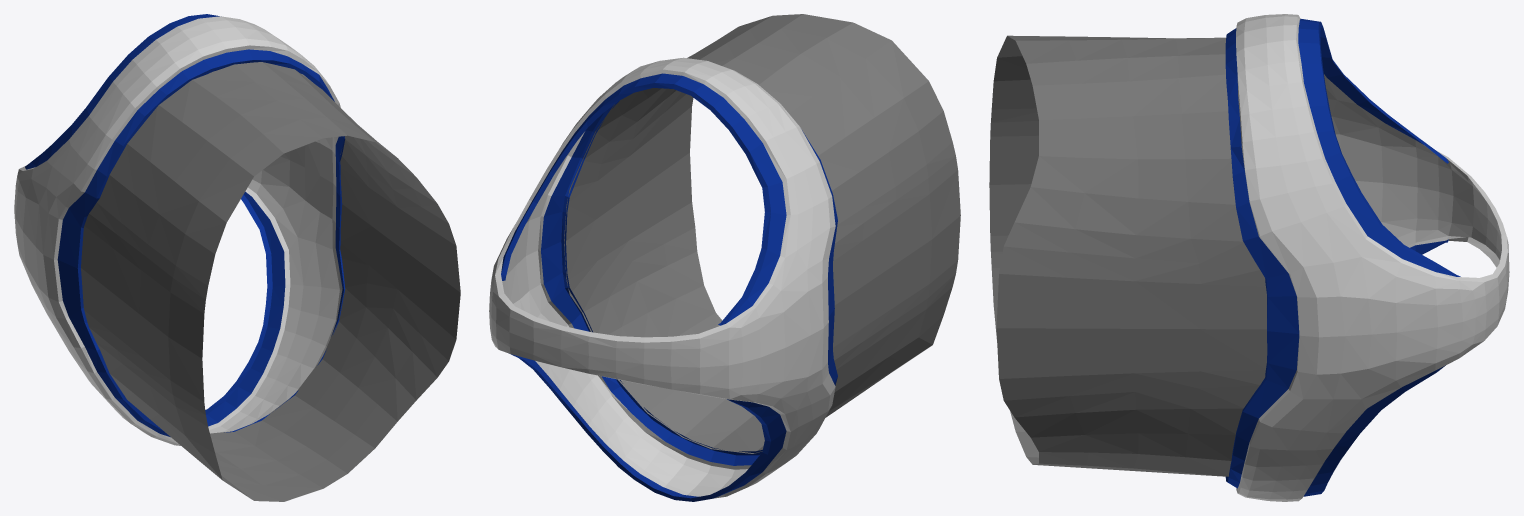
File: TrunkYaw.obj
The picture shows the model from 3 angles, left to right: view 1: azimuth 30°, elevation 25°; view 2: azimuth 150°, elevation 25°; view 3: azimuth 270°, elevation 25°; orthographic projection. The views are drawn at different scales.
Visible parts, largest first — view 1: TrunkYaw; view 2: TrunkYaw; view 3: TrunkYaw.
Part boxes in pixels (<box>): TrunkYaw: <box>14,14,460,501</box>; TrunkYaw: <box>489,14,960,501</box>; TrunkYaw: <box>989,14,1509,501</box>.
Bounding box in the file's own units: 0.2302 × 0.3145 × 0.3182.
